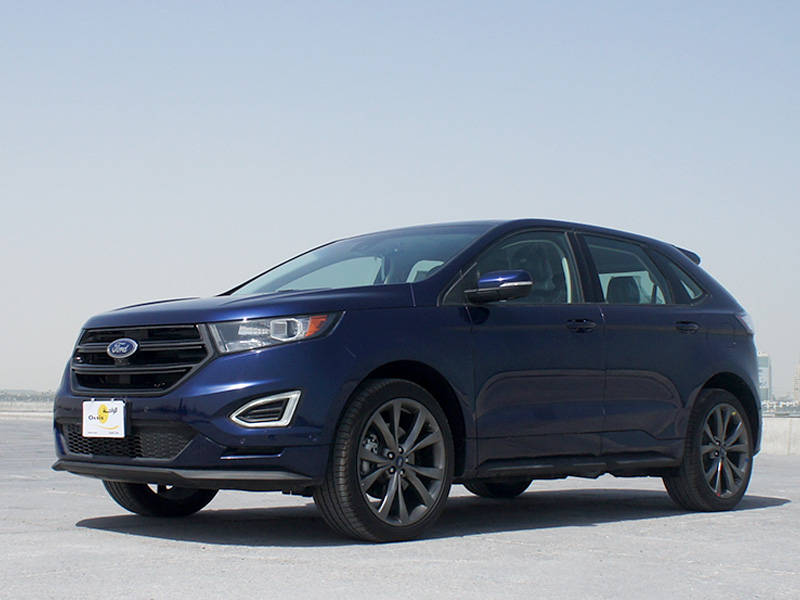other: (44, 212, 767, 534)
